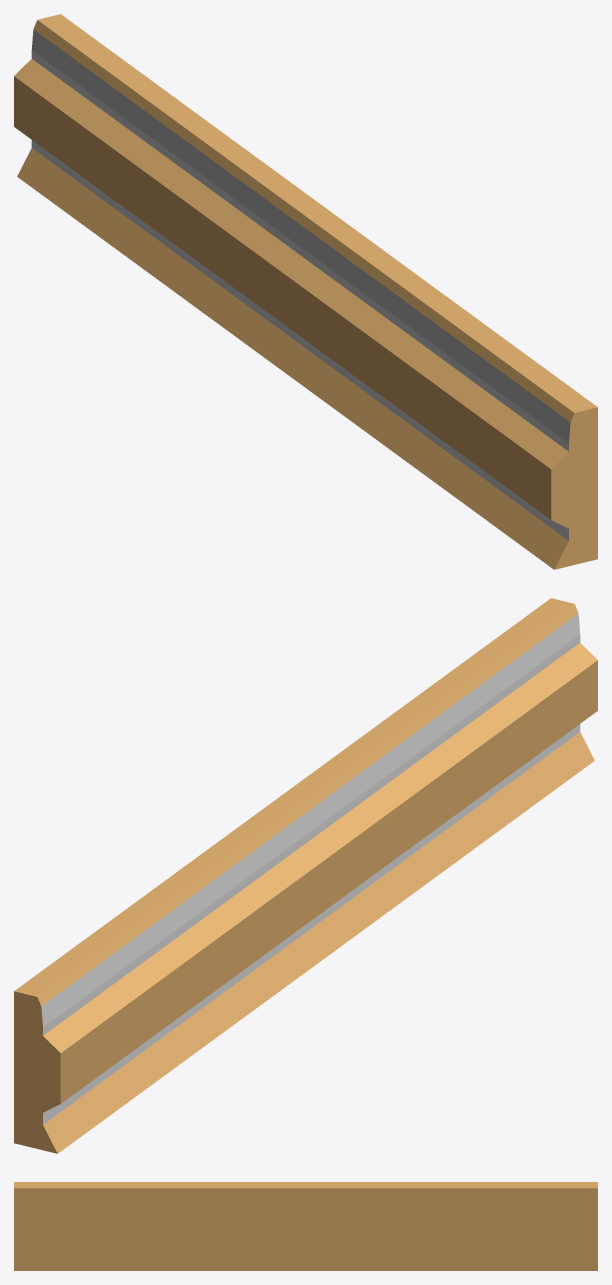
The model's file is Pared001.fbx.
3 renders of one model, top to bottom at view 1: azimuth 30°, elevation 25°; view 2: azimuth 150°, elevation 25°; view 3: azimuth 270°, elevation 25°, orthographic. The views are drawn at different scales.
Parts seen in each view (by area): view 1: Cube.020; view 2: Cube.020; view 3: Cube.020.
Part boxes in pixels (left/top/right/bottom): Cube.020: left=14, top=14, right=597, bottom=569; Cube.020: left=14, top=598, right=597, bottom=1153; Cube.020: left=14, top=1182, right=597, bottom=1270.
Size of the model in its own units: 64.47 by 200 by 1282.
